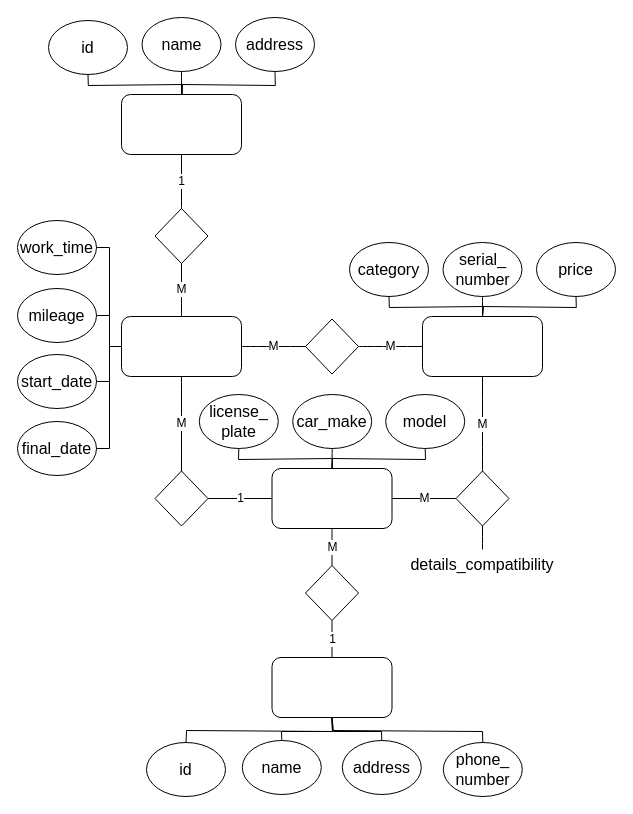
The diagram is 633 pixels wide and 814 high, and some of its shapes have lost their labels. Each missing label, with the centre of its shape:
car: (331,498)
clients: (331,687)
details: (482,346)
employees: (181,124)
service: (181,346)
